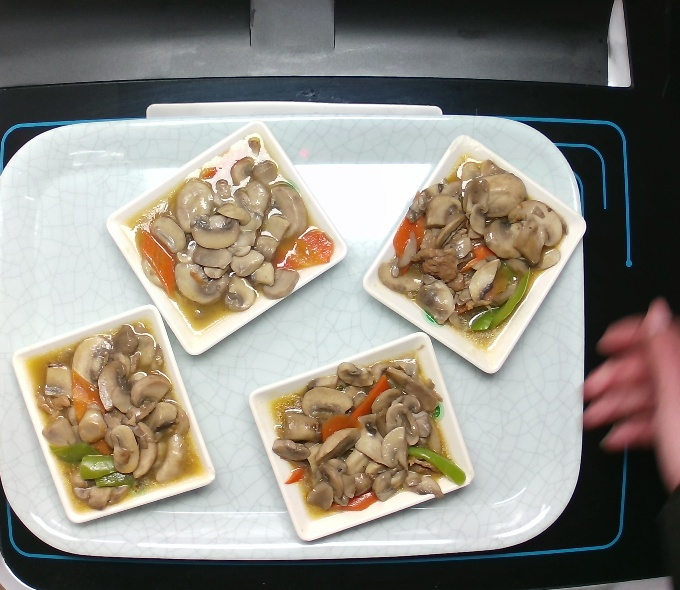wcq-HouTouGuChaoRou: (126, 130, 343, 339), (374, 148, 573, 355), (261, 350, 475, 527), (25, 315, 208, 510)
